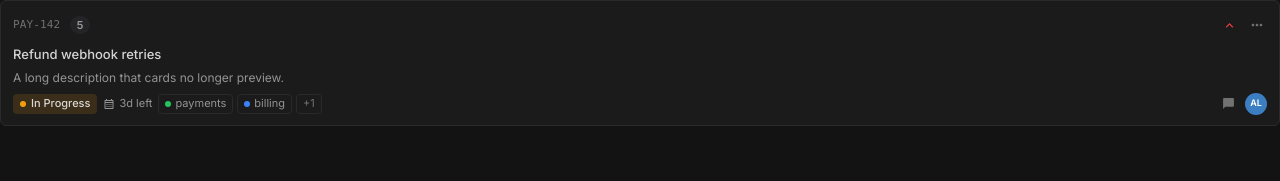
Test: card anatomy › the overflow menu closes on escape and returns focus
The width and height of the screenshot is (1280, 181).
Click the button named "Actions for PAY-142" at (1257, 25), box [1243,11,1271,39]
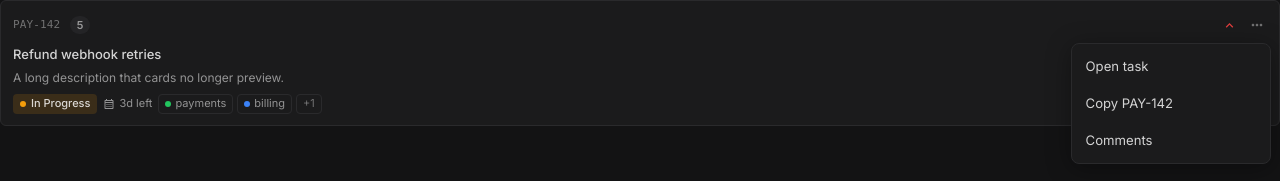
Press Escape
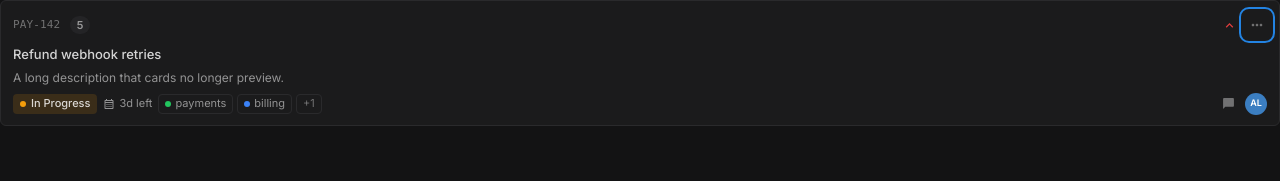
Now the menu is gone
